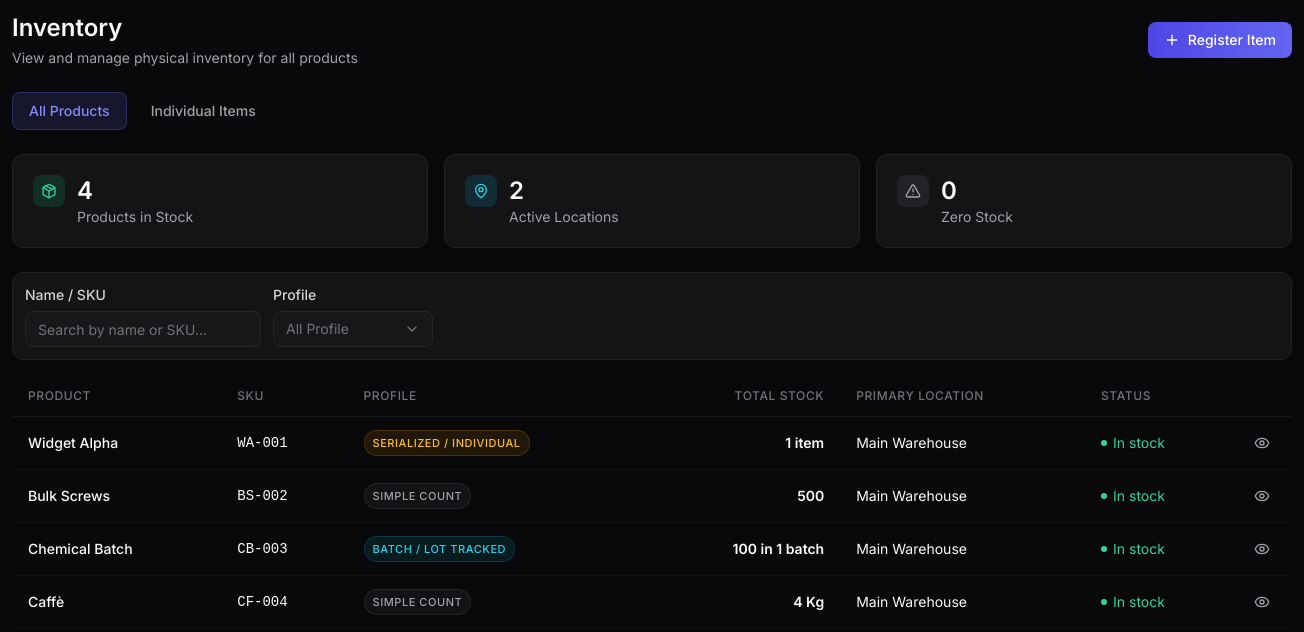
PhysicalProductList › switches to Individual Items tab
What coordinates should you click on to do the following:
click the button "Individual Items"
I would click on:
 (203, 111)
Its box is [135,93,272,129].
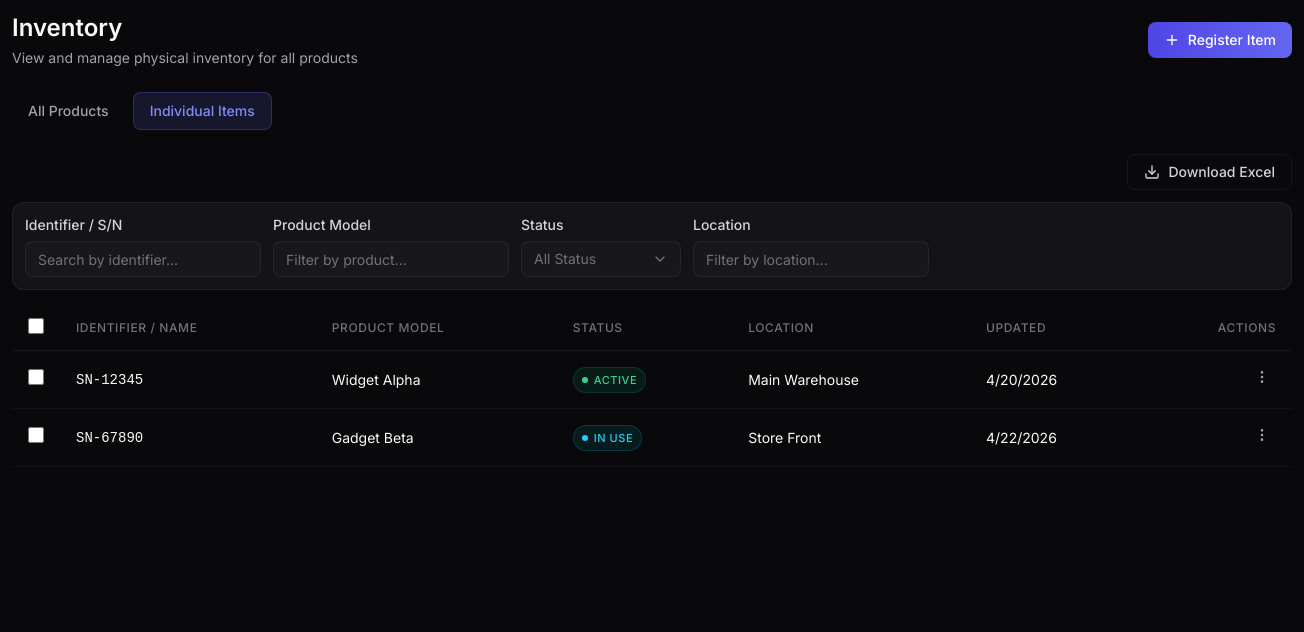
Expected: the text "SN-12345" is shown, [76,372,143,388]
Expected: the text "SN-67890" is shown, [76,430,143,446]
